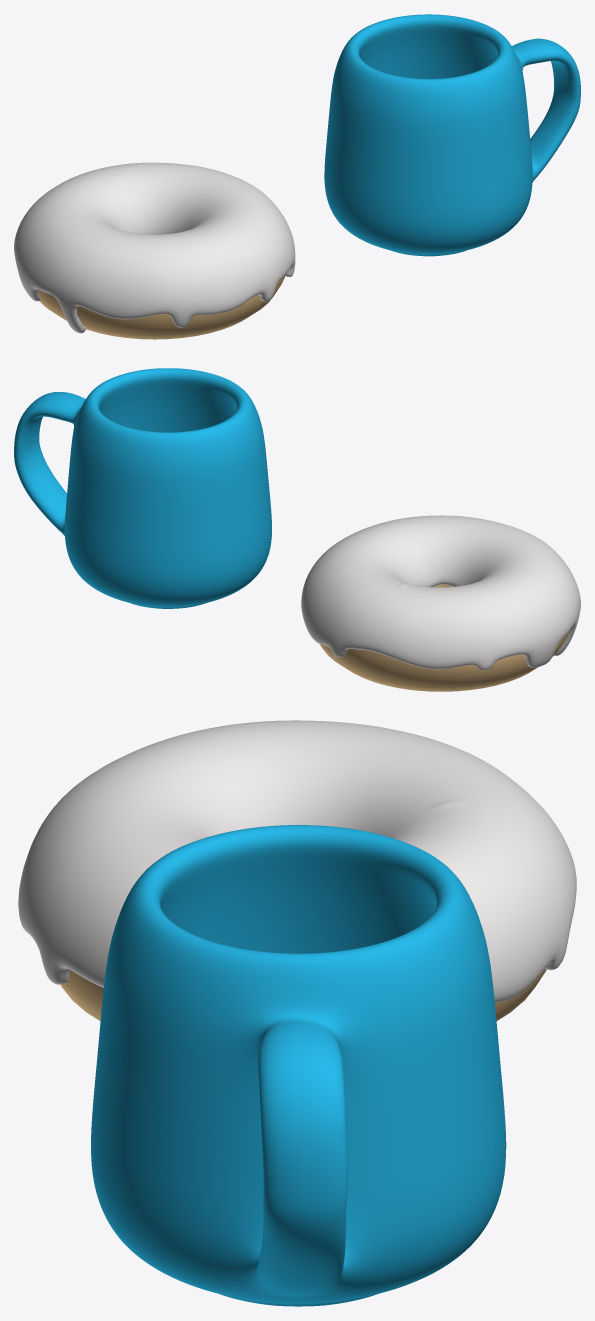
Rendered from FinalDonut.glb.
3 views of the same model, one above another, from view 1: azimuth 30°, elevation 25°; view 2: azimuth 150°, elevation 25°; view 3: azimuth 270°, elevation 25° (orthographic). The views are drawn at different scales.
Visible parts, largest first — view 1: Mug, Icing, Donut; view 2: Mug, Icing, Donut; view 3: Mug, Icing, Donut.
Part boxes in pixels (left/top/right/bottom): Mug: left=324, top=14, right=580, bottom=256; Icing: left=14, top=162, right=295, bottom=333; Donut: left=38, top=275, right=285, bottom=339; Mug: left=14, top=368, right=271, bottom=608; Icing: left=301, top=515, right=580, bottom=670; Donut: left=319, top=584, right=568, bottom=691; Mug: left=91, top=825, right=506, bottom=1306; Icing: left=18, top=720, right=576, bottom=1002; Donut: left=60, top=969, right=546, bottom=1020.
Bounding box in the file's own units: 0.733 × 0.2401 × 0.3274.
